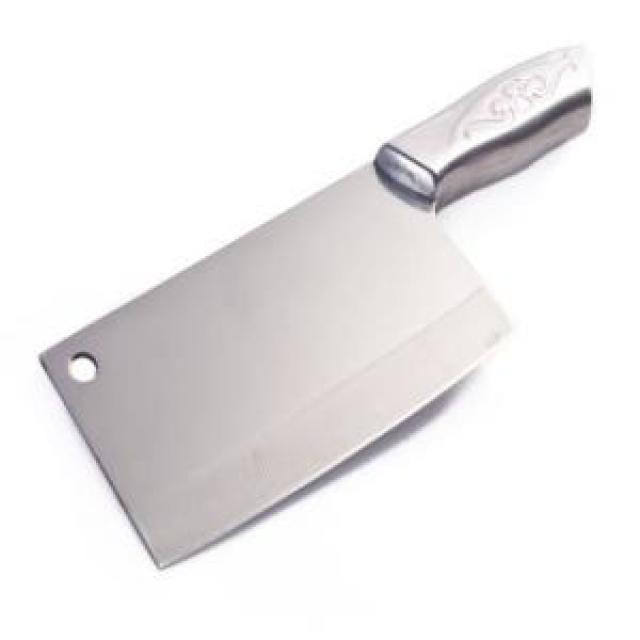knife: (38, 41, 596, 582)
